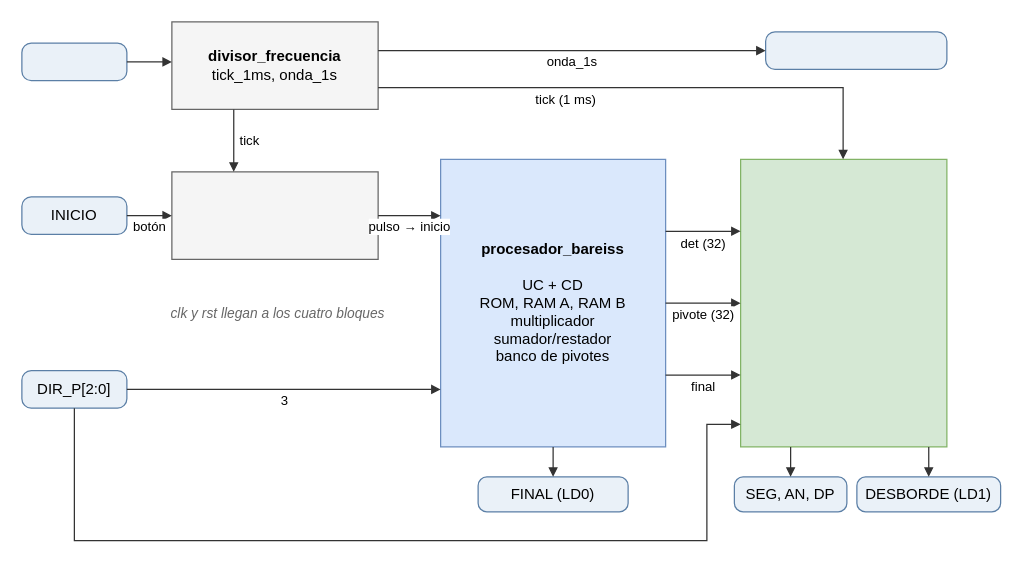
This 1023x571 diagram has some shape labels left out. Each missing label, with the box of its shape:
antirrebote un pulso por pulsación: (171, 171, 378, 259)
CLK, RST: (21, 42, 127, 81)
LATIDO (LD15): (764, 31, 947, 69)
visualizador ASM XS3 (binario → BCD) + display de 8 dígitos: (739, 158, 947, 447)
